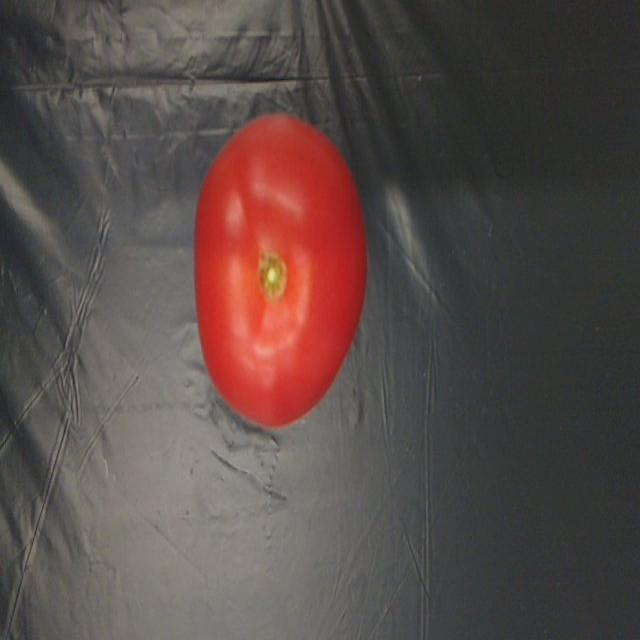kirmizi: (194, 112, 373, 423)
